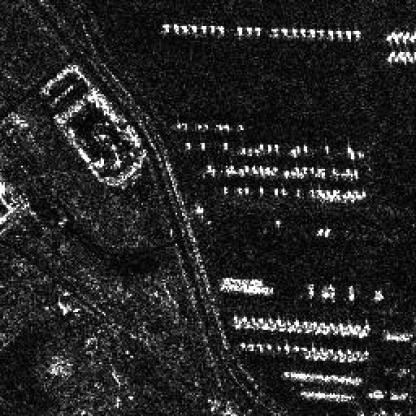airplane: (215, 122, 229, 130), (307, 283, 315, 297), (197, 120, 208, 130), (320, 289, 330, 299), (176, 120, 188, 128), (376, 289, 384, 301), (317, 27, 327, 36), (236, 167, 245, 176), (200, 22, 208, 32), (208, 22, 216, 32), (236, 24, 244, 34), (299, 26, 307, 36), (224, 164, 234, 172), (354, 150, 364, 158), (346, 291, 354, 301), (255, 343, 263, 353), (352, 27, 360, 36), (324, 228, 332, 237), (180, 24, 187, 34), (188, 25, 198, 32), (245, 24, 252, 34), (328, 28, 335, 38), (250, 164, 257, 174), (323, 143, 330, 153), (161, 23, 169, 31), (252, 26, 260, 34), (281, 26, 289, 34), (344, 30, 352, 38), (290, 148, 298, 156), (336, 27, 343, 36), (218, 22, 224, 32), (257, 164, 263, 174), (247, 343, 253, 353), (172, 23, 179, 31), (271, 26, 278, 34), (238, 122, 245, 130), (302, 144, 309, 152), (271, 164, 278, 172), (316, 228, 324, 235), (330, 288, 335, 299), (309, 27, 315, 36), (206, 162, 212, 171), (265, 141, 271, 150), (265, 166, 270, 176), (390, 49, 396, 57), (396, 49, 402, 57), (392, 34, 398, 42), (291, 26, 299, 32), (195, 205, 203, 211), (283, 169, 289, 177), (244, 164, 250, 172), (348, 150, 354, 158), (265, 343, 271, 351), (283, 344, 289, 352), (273, 141, 278, 150), (387, 56, 393, 63), (385, 33, 392, 39), (398, 36, 405, 42), (404, 29, 410, 36), (184, 141, 190, 148), (239, 146, 245, 153), (258, 141, 264, 148), (239, 341, 245, 348), (308, 346, 314, 353), (406, 54, 411, 62), (221, 186, 226, 194), (247, 146, 252, 154), (294, 144, 299, 152), (273, 187, 278, 195), (281, 187, 286, 195), (408, 36, 414, 42), (236, 187, 242, 193), (258, 187, 264, 193), (345, 145, 351, 151), (292, 345, 298, 351), (388, 29, 395, 34), (200, 141, 205, 148), (221, 141, 226, 148), (302, 346, 307, 353), (244, 187, 249, 193), (400, 54, 404, 60), (404, 49, 408, 55), (254, 148, 258, 154), (396, 31, 400, 36), (393, 54, 396, 60)
